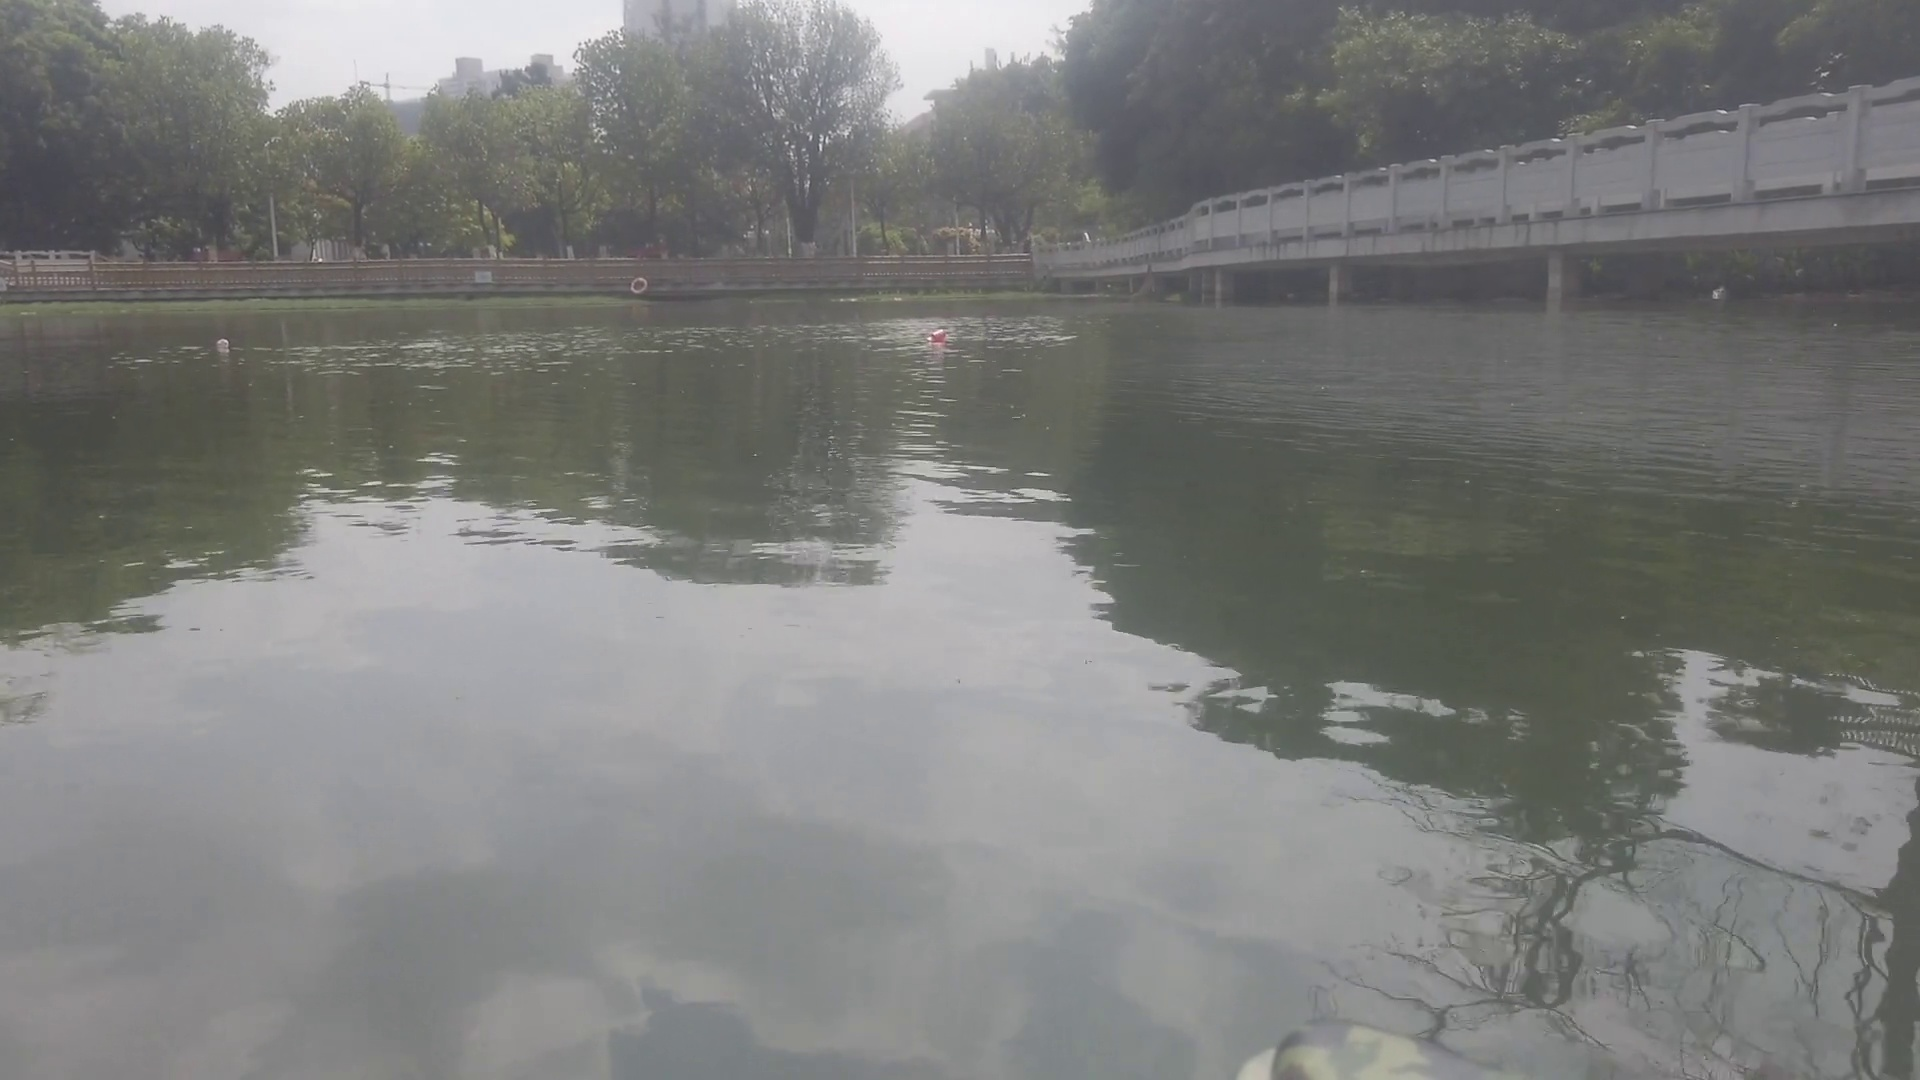bottle: (926, 324, 947, 344), (214, 334, 231, 349)
